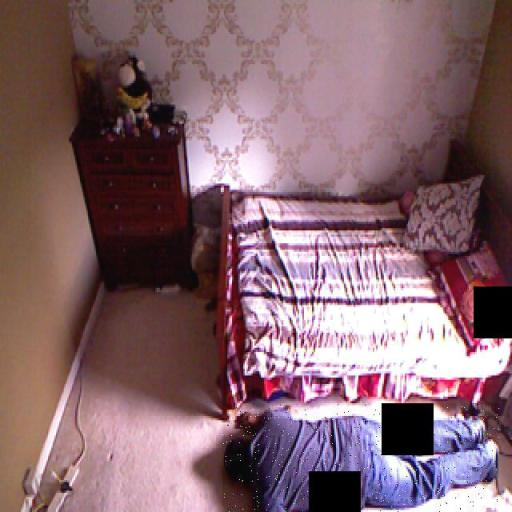Fall: (223, 403, 500, 512)
